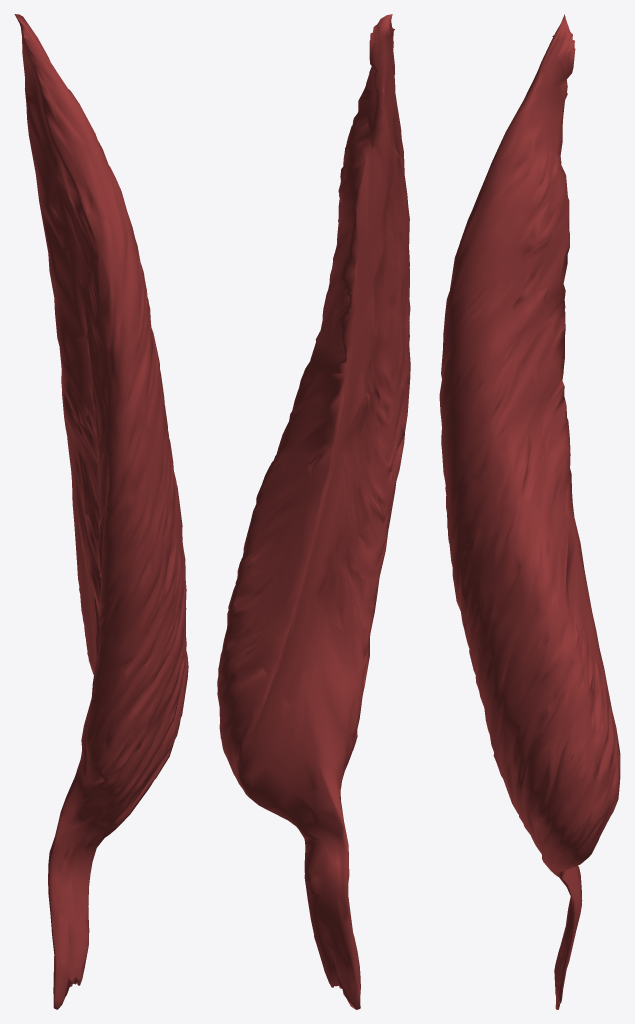
The model's file is vastus-medialis-muscle-r.glb.
3 renders of one model, left to right at view 1: azimuth 30°, elevation 25°; view 2: azimuth 150°, elevation 25°; view 3: azimuth 270°, elevation 25°, orthographic. The views are drawn at different scales.
Parts seen in each view (by area): view 1: Vastus medialis muscle.r; view 2: Vastus medialis muscle.r; view 3: Vastus medialis muscle.r.
Part boxes in pixels (bbox=[...]): Vastus medialis muscle.r: bbox=[14, 14, 188, 1009]; Vastus medialis muscle.r: bbox=[217, 14, 410, 1009]; Vastus medialis muscle.r: bbox=[439, 14, 620, 1009].
Size of the model in its own units: 0.0716 by 0.4079 by 0.0685.
